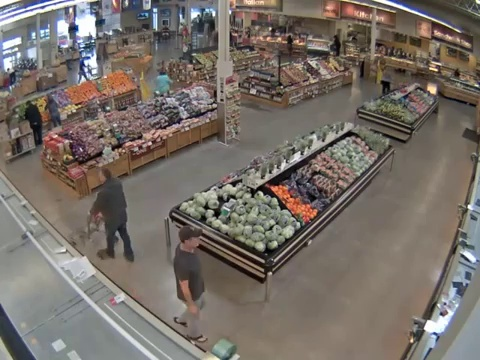face: (189, 233, 200, 248)
